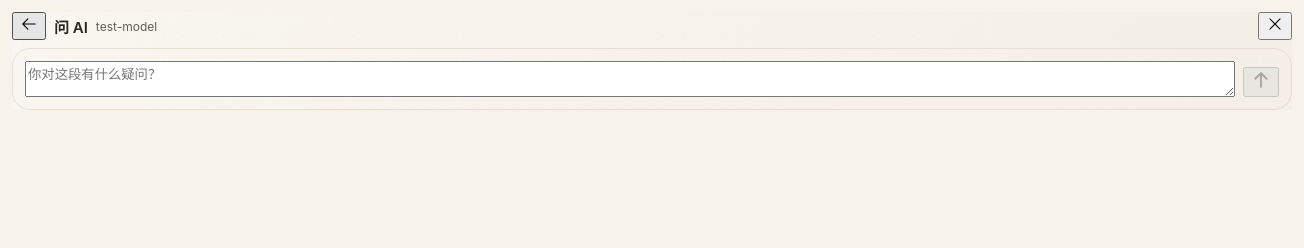
Scenario: EPUB conversation requests › restores the question on stop, ignores a late reply, and does not submit again
Later steps or results of the test are not shown.
Check: the text "test-model" is shown, box [96,18,157,34]
In the text box: (630, 79) [25,61,1235,97], type "解释这段"
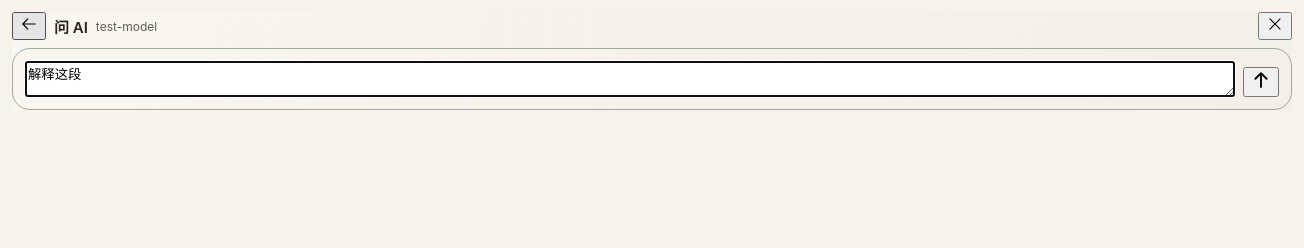
Click the button named "发送": (1261, 82) [1243,67,1279,97]
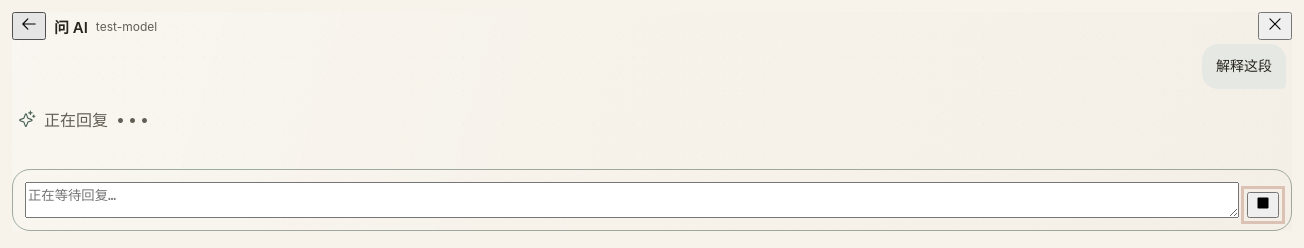
Check: the text "解释这段" is shown, box [1202,44,1286,88]
